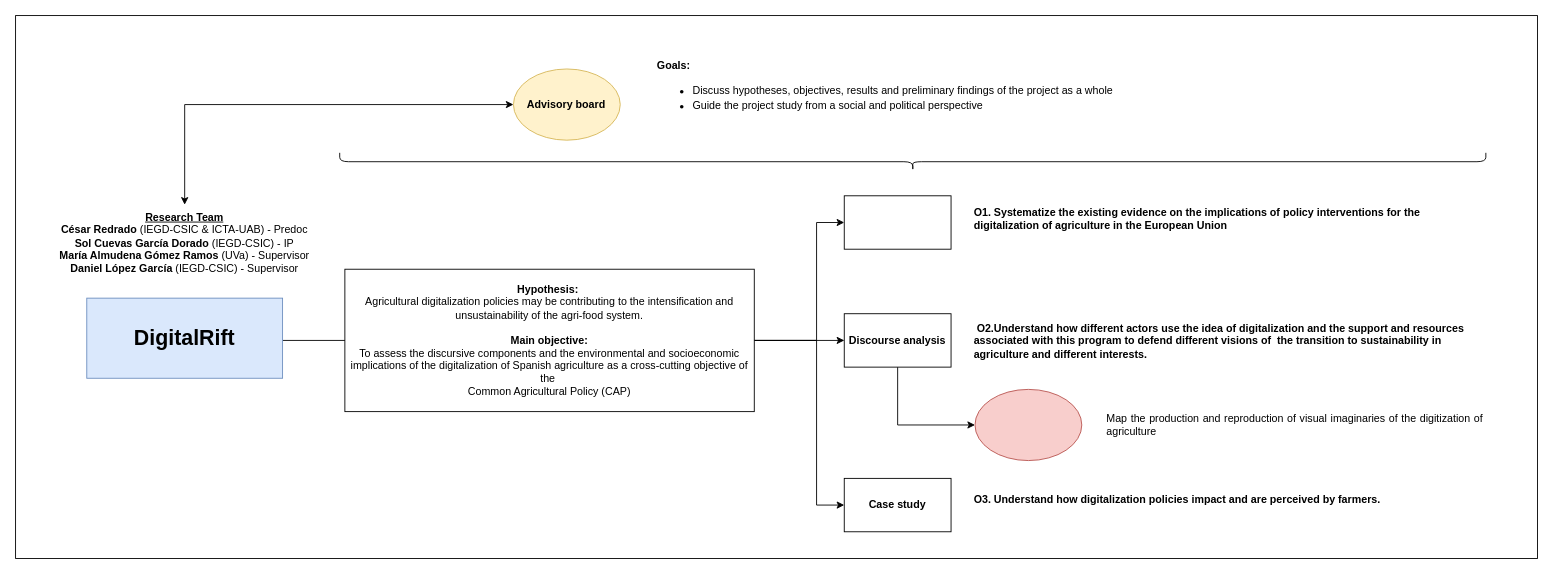
Image size: 1553x574. Some labels were removed from this diagram. The centre of each missing label's shape, as x and y in pixels:
"Literature review" goes at pixel 897 222.
"Visual Atlas" goes at pixel 1028 424.
